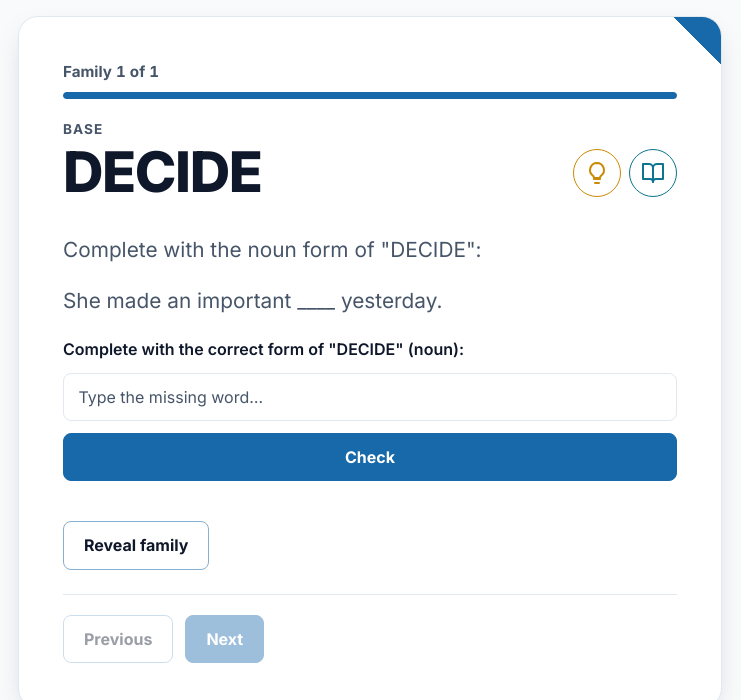
Test: WordFormationClient › reports when the answer is incorrect
Type "decisions" into the field labelled "Complete with the correct form of \"DECIDE\" (noun):". click: [370, 397]
box: x1=63 y1=372 x2=677 y2=421
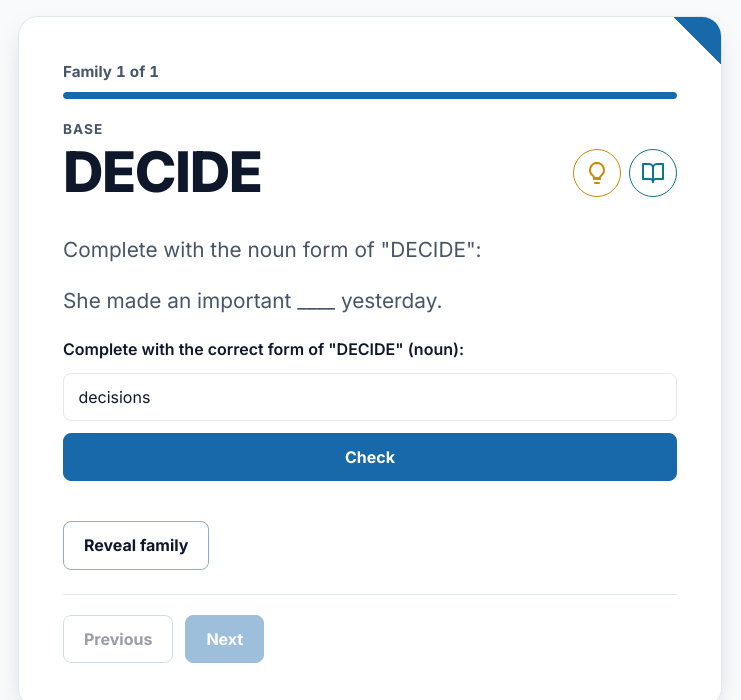
Click the button "Check". click: [370, 457]
box: x1=63 y1=433 x2=677 y2=481
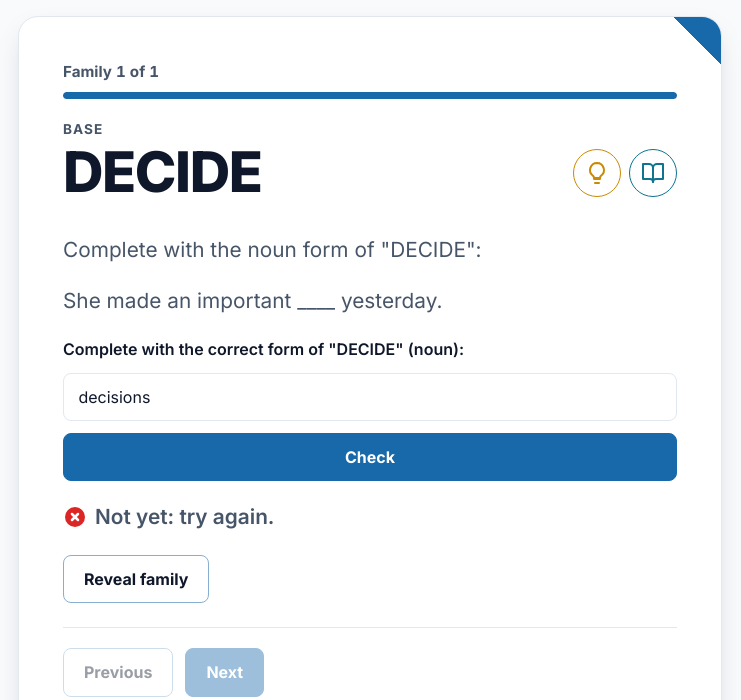
expect the text "Not yet: try again." is shown: met, box x1=95 y1=501 x2=274 y2=532
